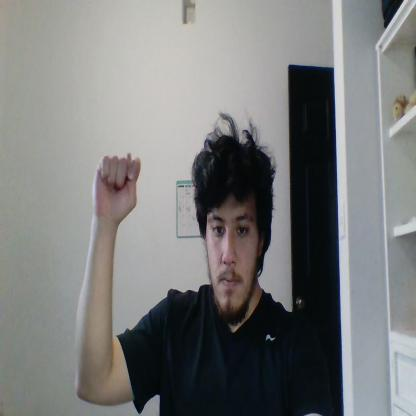T: (92, 153, 141, 224)
